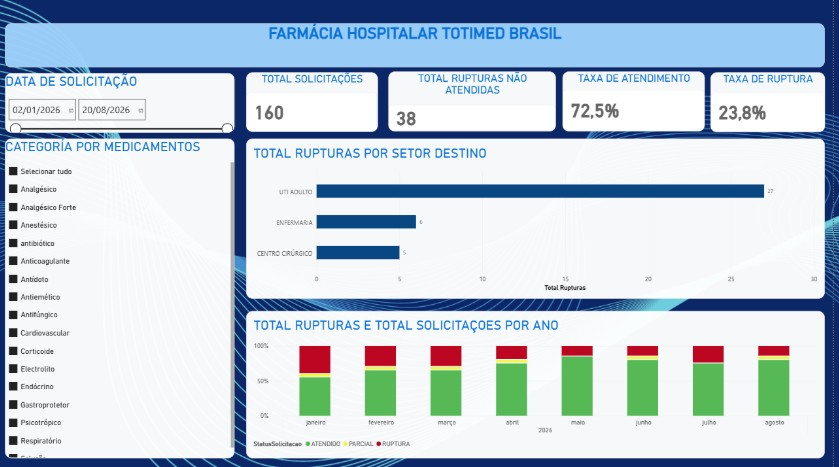

What the dashboard file says about the page in this screenshot:
{"tool":"powerbi","page":{"name":"Página 1","canvas":[1920,1080],"ordinal":0},"visuals":[{"type":"slicer","title":"DATA DE SOLICITAÇÃO ","fields":{"Values":["farmacia_hospitalar_powerbi.DataSolicitacao"]},"box":[31.7,177.3,524.3,136.2],"z":0},{"type":"cardVisual","title":"TOTAL SOLICITAÇÕES ","fields":{"Data":["farmacia_hospitalar_powerbi.Total Solicitacoes"]},"box":[582.2,175.3,300.4,136.2],"z":1000},{"type":"cardVisual","title":"TOTAL RUPTURAS NÃO ATENDIDAS","fields":{"Data":["farmacia_hospitalar_powerbi.Total Rupturas"]},"box":[907.7,173.1,382.7,136.5],"z":2000},{"type":"cardVisual","title":"TAXA DE ATENDIMENTO","fields":{"Data":["farmacia_hospitalar_powerbi.Taxa de Atendimento %"]},"box":[1303.8,173.1,325,136.5],"z":3000},{"type":"hundredPercentStackedColumnChart","title":"TOTAL RUPTURAS E TOTAL SOLICITAÇOES POR ANO","fields":{"Category":["farmacia_hospitalar_powerbi.DataSolicitacao.Variation.Hierarquia de datas.Ano","farmacia_hospitalar_powerbi.DataSolicitacao.Variation.Hierarquia de datas.Mês"],"Series":["farmacia_hospitalar_powerbi.StatusSolicitacao"],"Y":["farmacia_hospitalar_powerbi.Total Solicitacoes"]},"box":[582.2,720.3,1321.1,335.9],"z":4000},{"type":"clusteredBarChart","title":"TOTAL RUPTURAS POR SETOR DESTINO","fields":{"Category":["farmacia_hospitalar_powerbi.SetorDestino"],"Y":["farmacia_hospitalar_powerbi.Total Rupturas"]},"box":[582.2,326.5,1321.1,365.7],"z":5000},{"type":"cardVisual","title":"TAXA DE RUPTURA","fields":{"Data":["farmacia_hospitalar_powerbi.Taxa de Ruptura %"]},"box":[1642.3,175,261.5,136.5],"z":6000},{"type":"slicer","title":"CATEGORÍA POR MEDICAMENTOS","fields":{"Values":["farmacia_hospitalar_powerbi.Categoria"]},"box":[31.7,326.5,524.3,729.6],"z":7000},{"type":"textbox","title":"FARMÁCIA HOSPITALAR TOTIMED BRASIL","box":[31.7,63.4,1871.5,100.8],"z":8000}]}

Visuals, with their boxes in screenshot pixels (x1, y1, x2, y2), scaled from the page's 1920x1080 canvas onto the 839x467 screenshot:
"DATA DE SOLICITAÇÃO " slicer: region(14, 77, 243, 136)
"TOTAL SOLICITAÇÕES " cardVisual: region(254, 76, 386, 135)
"TOTAL RUPTURAS NÃO ATENDIDAS" cardVisual: region(397, 75, 564, 134)
"TAXA DE ATENDIMENTO" cardVisual: region(570, 75, 712, 134)
"TOTAL RUPTURAS E TOTAL SOLICITAÇOES POR ANO" hundredPercentStackedColumnChart: region(254, 311, 832, 457)
"TOTAL RUPTURAS POR SETOR DESTINO" clusteredBarChart: region(254, 141, 832, 299)
"TAXA DE RUPTURA" cardVisual: region(718, 76, 832, 135)
"CATEGORÍA POR MEDICAMENTOS" slicer: region(14, 141, 243, 457)
"FARMÁCIA HOSPITALAR TOTIMED BRASIL" textbox: region(14, 27, 832, 71)
